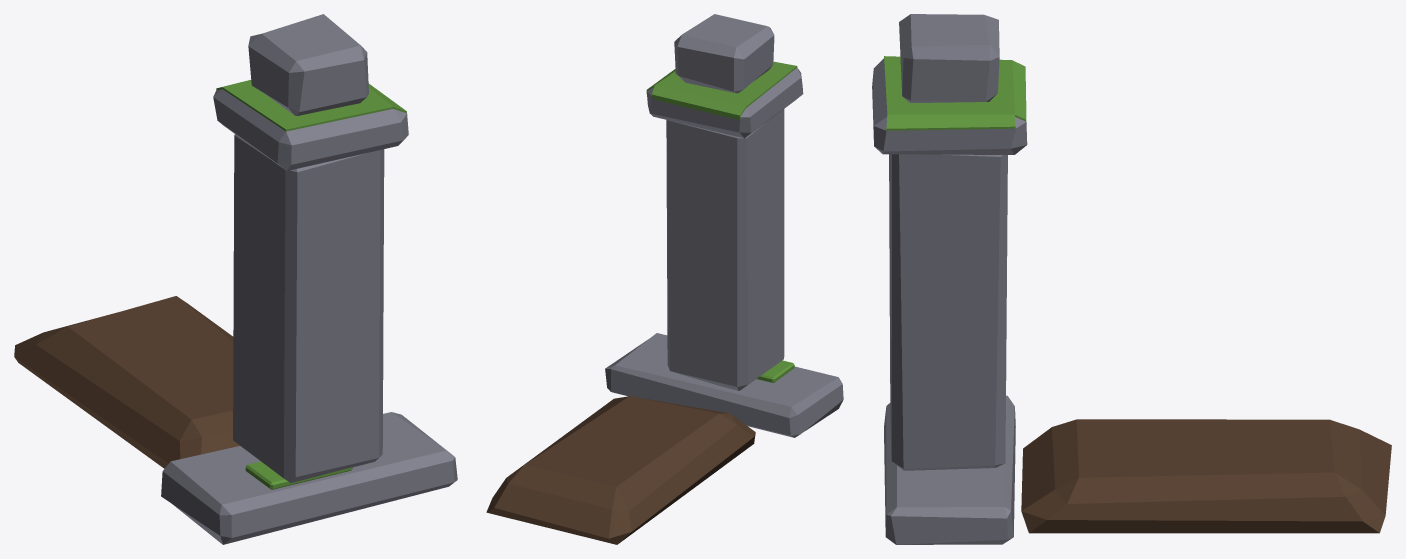
Rendered from Gravestone3.fbx.
3 renders of one model, left to right at view 1: azimuth 30°, elevation 25°; view 2: azimuth 150°, elevation 25°; view 3: azimuth 270°, elevation 25°, orthographic. The views are drawn at different scales.
Parts seen in each view (by area): view 1: Stone, Mound, Moss; view 2: Stone, Mound, Moss; view 3: Stone, Mound, Moss.
Part boxes in pixels (box(x1,y1,x2,y2)): Stone: box(161, 14, 457, 544); Mound: box(14, 296, 239, 468); Moss: box(216, 80, 406, 489); Stone: box(605, 14, 843, 437); Mound: box(486, 396, 755, 544); Moss: box(646, 61, 797, 382); Stone: box(872, 14, 1027, 544); Mound: box(1021, 419, 1391, 533); Moss: box(884, 56, 1026, 132).
Bounding box in the file's own units: 2.64 × 4.84 × 4.87.
